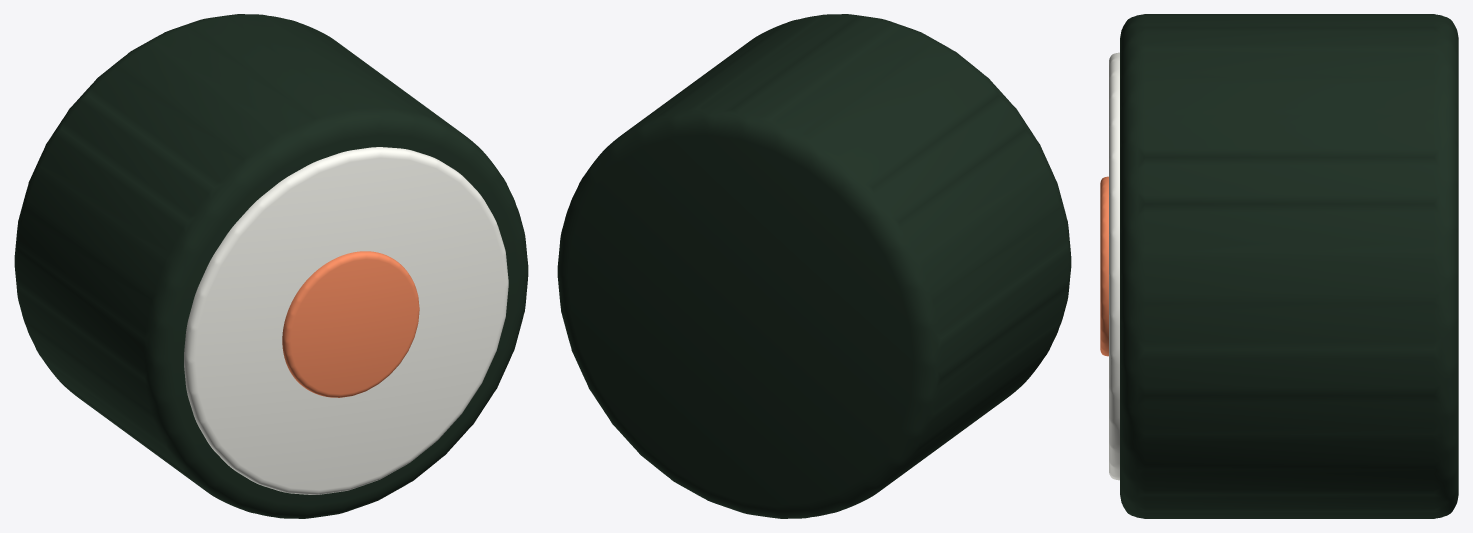
Rendered from Ammo_Sushi.glb.
The picture shows the model from 3 angles, left to right: view 1: azimuth 30°, elevation 25°; view 2: azimuth 150°, elevation 25°; view 3: azimuth 270°, elevation 25°; orthographic projection. The views are drawn at different scales.
Parts seen in each view (by area): view 1: Cylinder, Cylinder.001, Cylinder.002; view 2: Cylinder; view 3: Cylinder, Cylinder.001, Cylinder.002.
Part boxes in pixels (x1,y1,x2,y2): Cylinder: [14, 14, 528, 518]; Cylinder.001: [184, 147, 508, 494]; Cylinder.002: [282, 251, 419, 397]; Cylinder: [557, 14, 1071, 518]; Cylinder: [1120, 14, 1458, 518]; Cylinder.001: [1109, 52, 1119, 480]; Cylinder.002: [1100, 176, 1108, 356].
Size of the model in its own units: 0.8947 by 0.8947 by 0.635.
